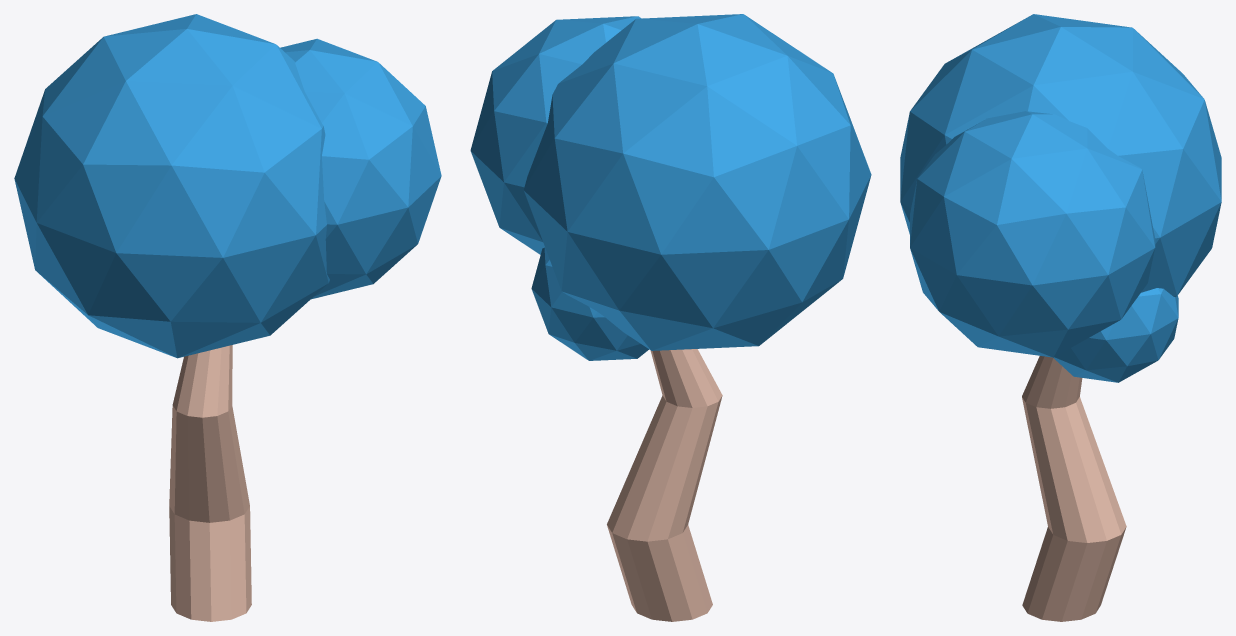
Rendered from tree2.fbx.
3 renders of one model, left to right at view 1: azimuth 30°, elevation 25°; view 2: azimuth 150°, elevation 25°; view 3: azimuth 270°, elevation 25°, orthographic. The views are drawn at different scales.
Parts seen in each view (by area): view 1: Tree 2; view 2: Tree 2; view 3: Tree 2.
Boxes of the visible parts, x1=… form: Tree 2: x1=14, y1=14, x2=441, y2=621; Tree 2: x1=470, y1=14, x2=871, y2=621; Tree 2: x1=900, y1=14, x2=1221, y2=621.
Size of the model in its own units: 292 by 382 by 569.
